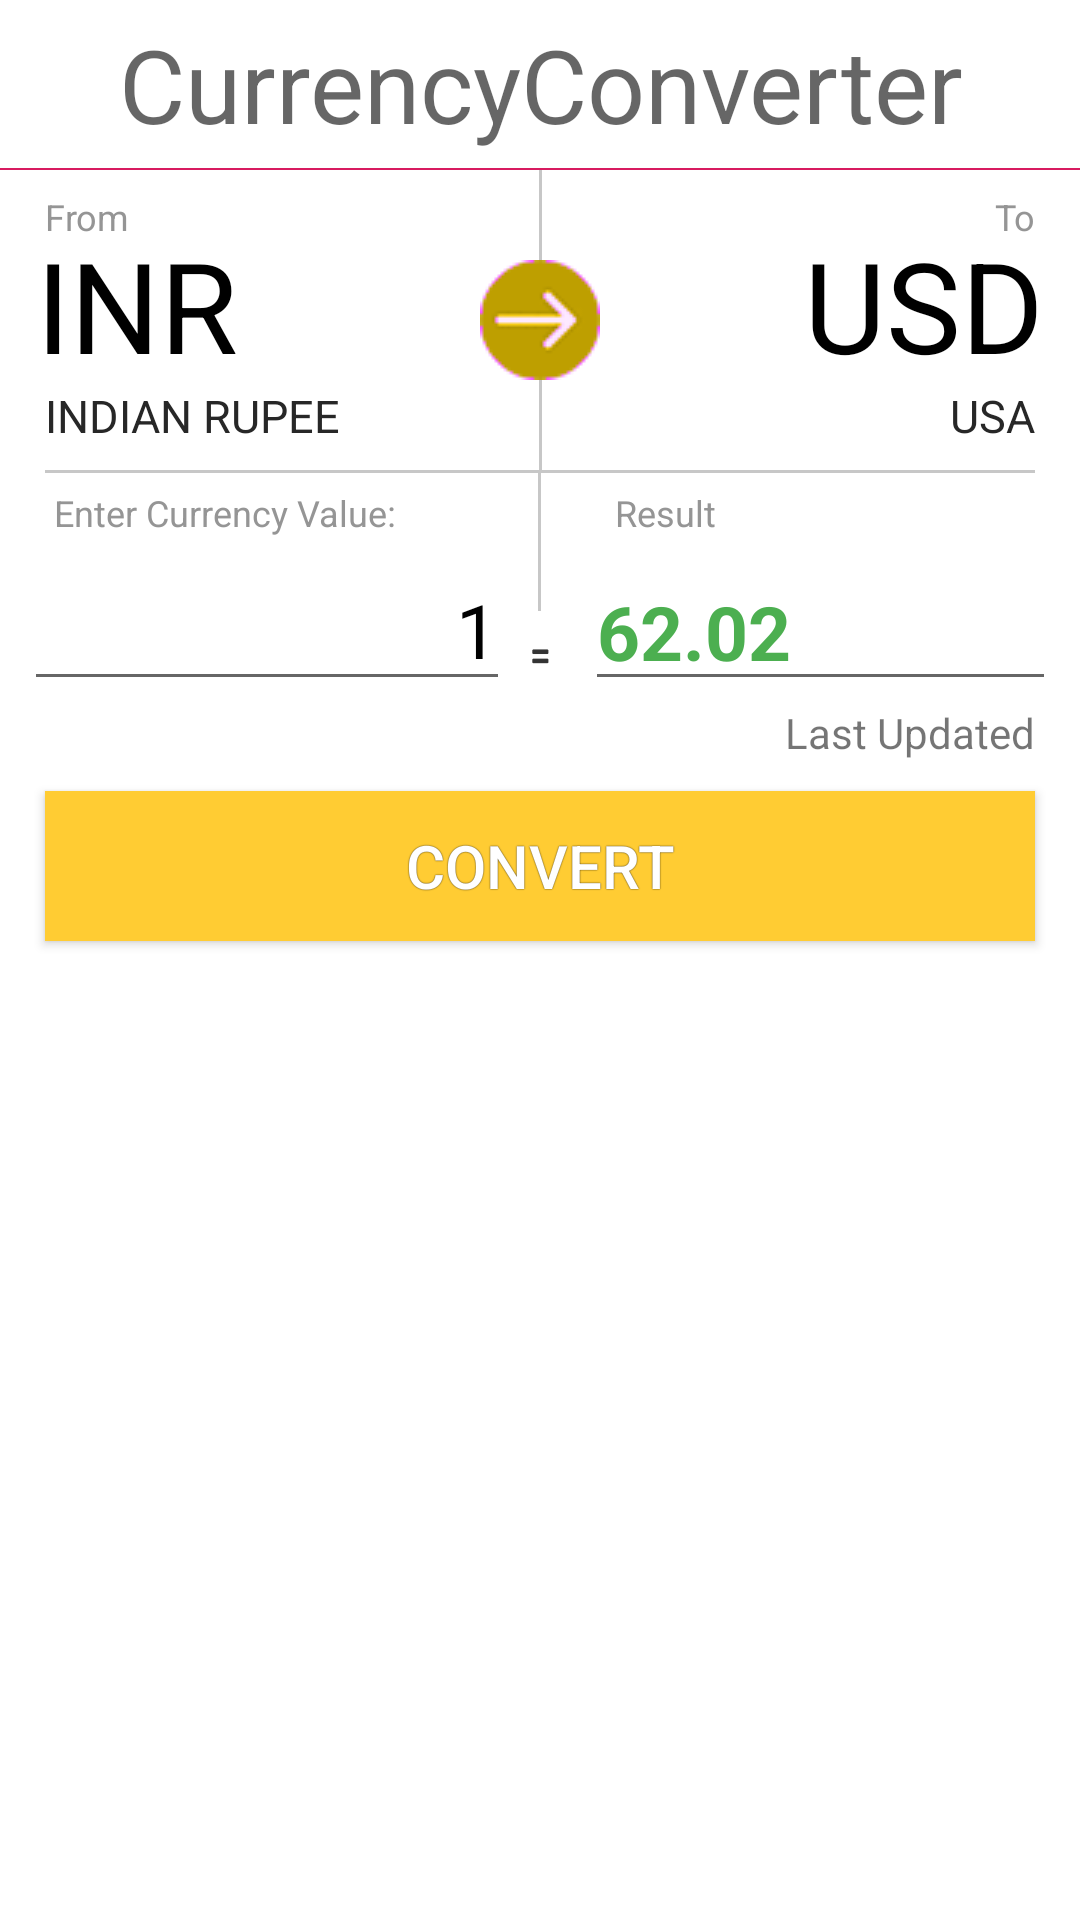

Point at icon controls on the screen. Image size 1080px x 1920px, points as [x,y].
yarrow right round: [540,320]
